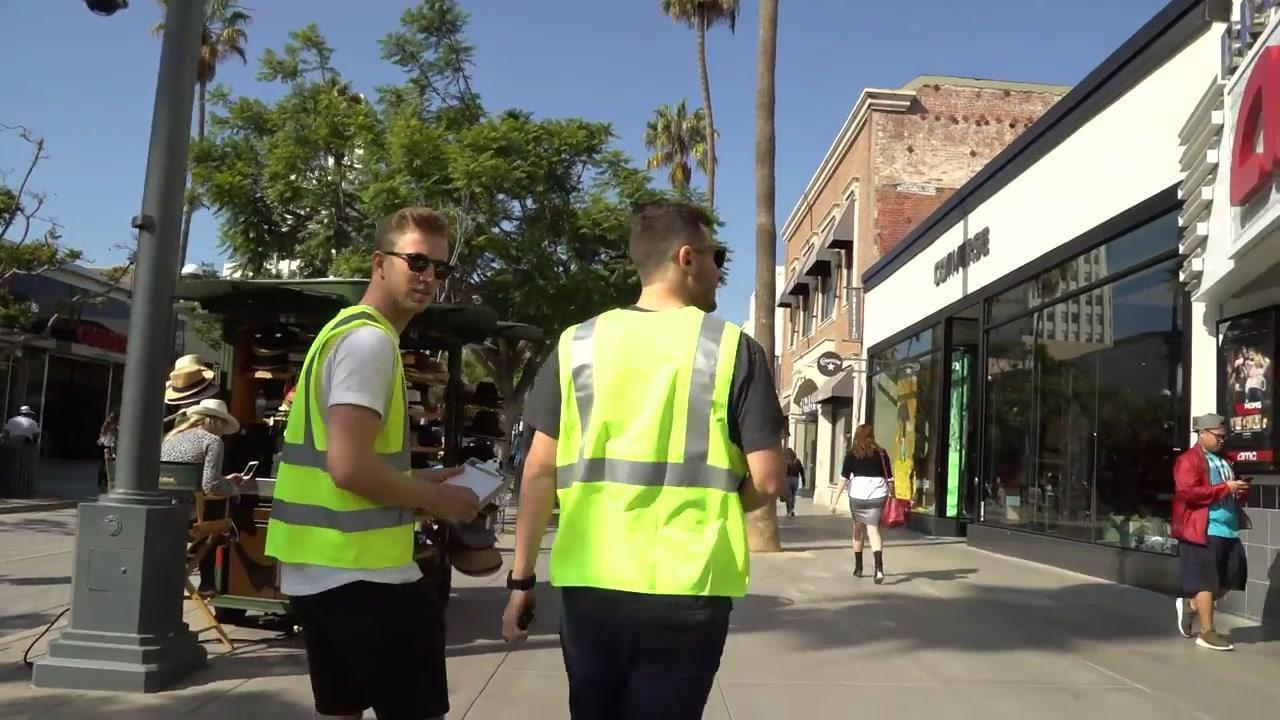Glass: (551, 303, 760, 591), (269, 315, 420, 571)
